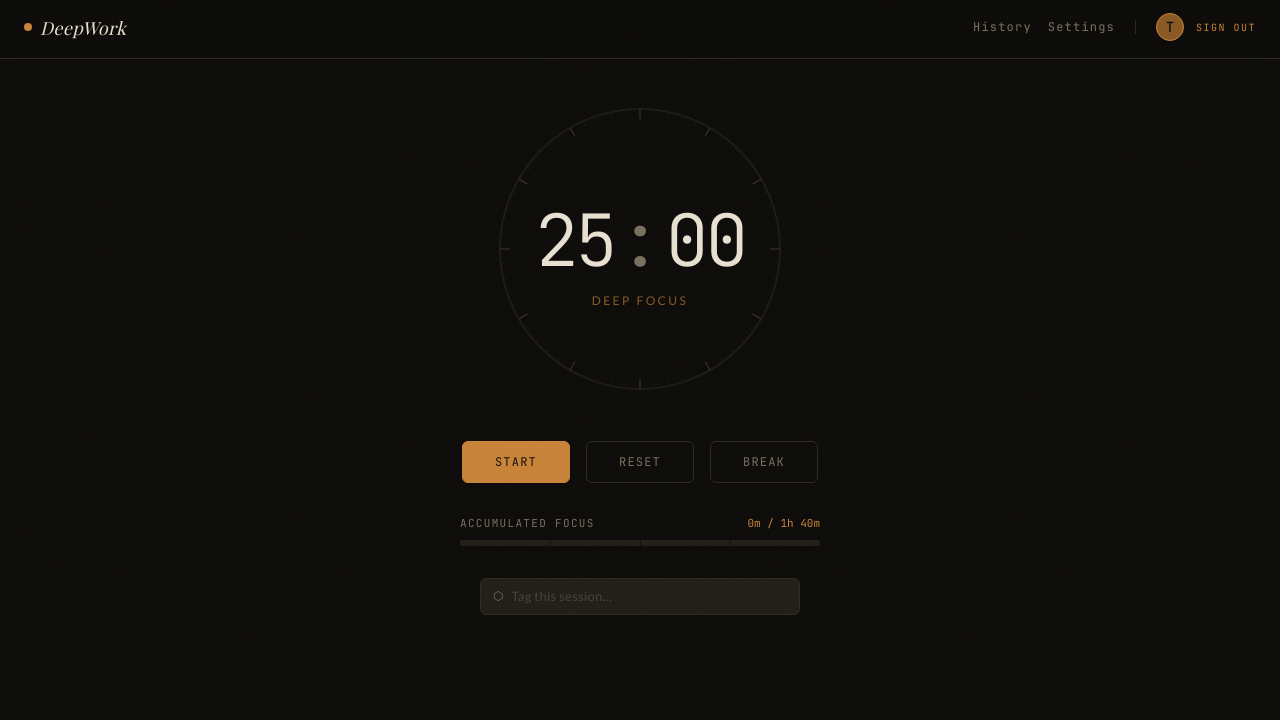
Scenario: TimerWidget Settings UI › should open and close the settings modal
Click settings button
Click the button "Settings". click: (1081, 27)
box: [1048, 19, 1115, 35]
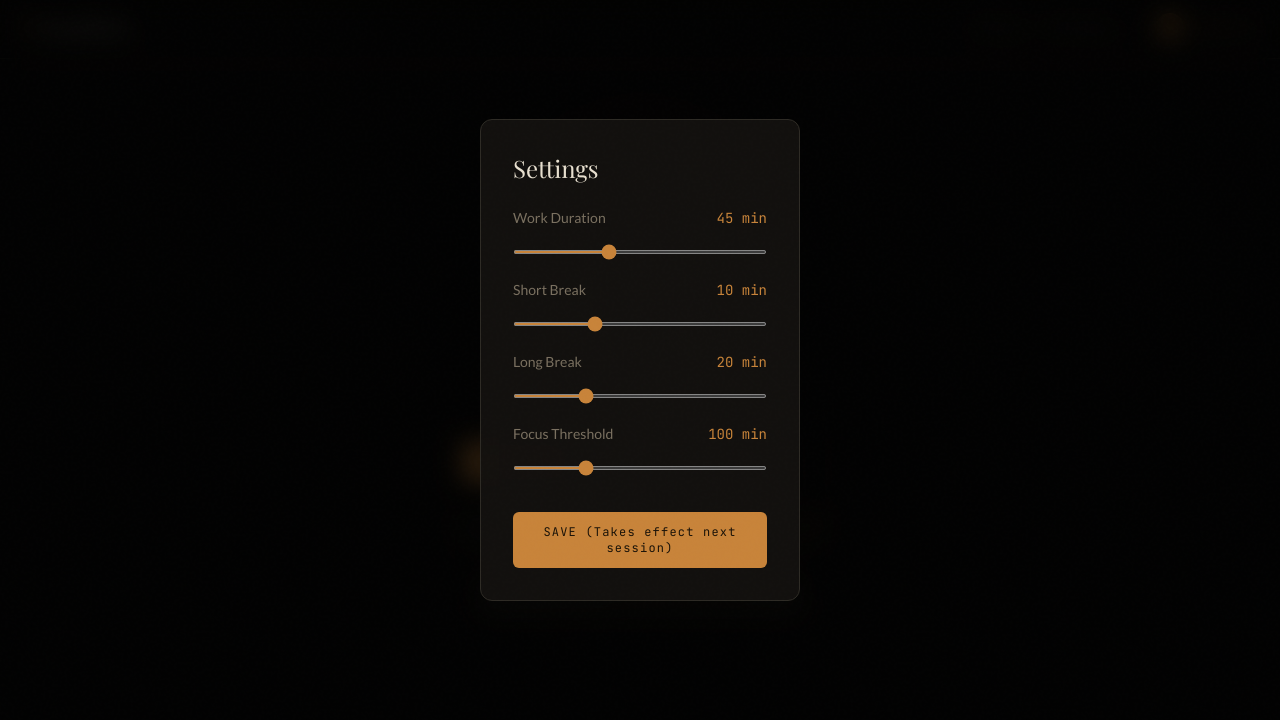
Result: the heading "Settings" is shown at [513, 152, 598, 184]
Result: the text "Work Duration" is shown at [513, 208, 606, 228]
Close using the SAVE button
Click the button "SAVE (Takes effect next session)". click: (640, 540)
box: [513, 512, 767, 568]
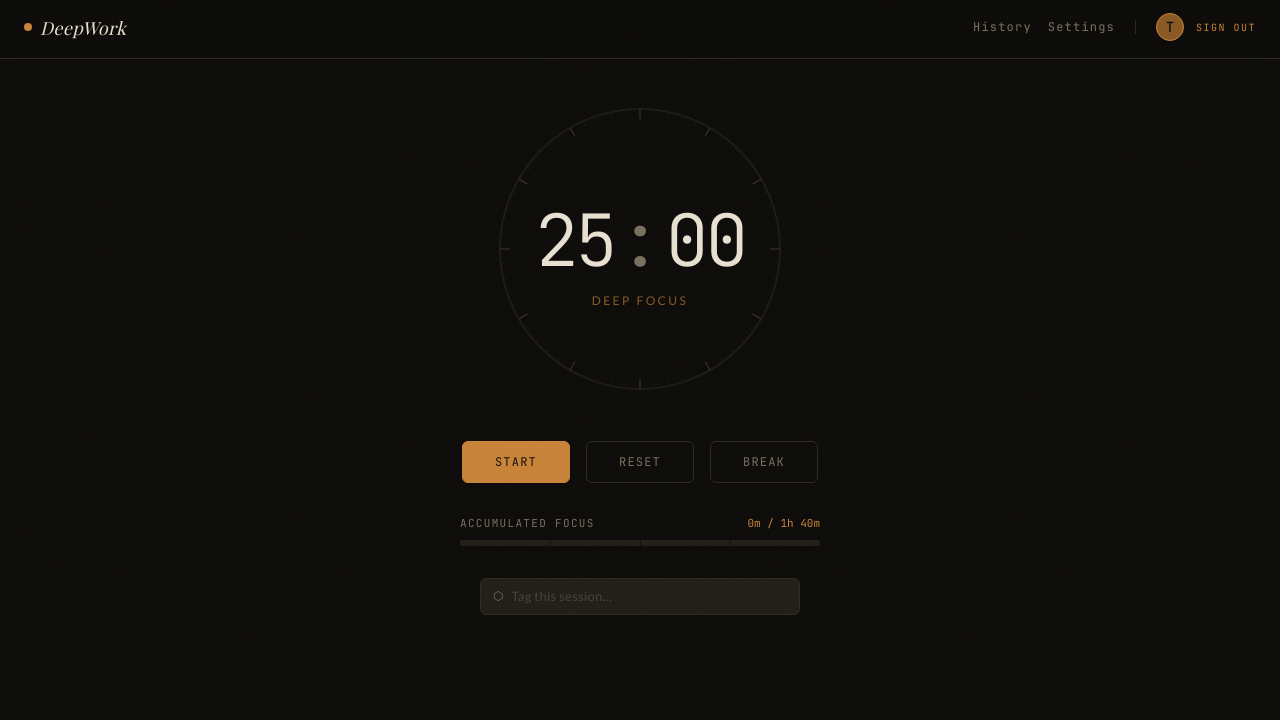
Result: the text "Work Duration" is gone
